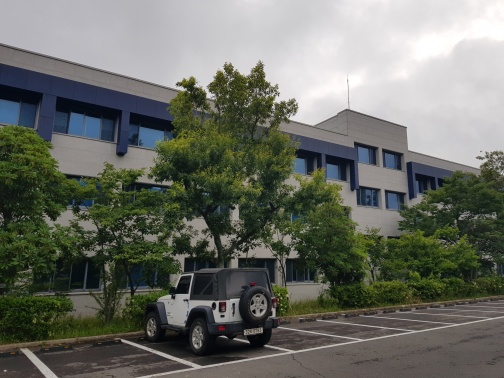College of Social Sciences: (23, 54, 483, 291)
